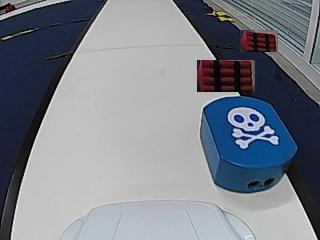danger: (230, 110, 277, 149)
